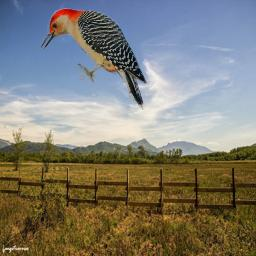Woodpecker: (40, 8, 149, 111)
